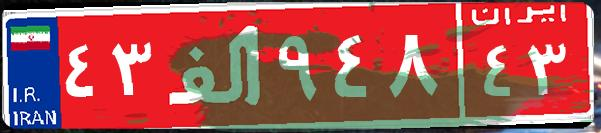3: (110, 28, 158, 105), (525, 38, 570, 115)
4: (330, 28, 385, 110), (57, 26, 110, 107), (475, 38, 525, 113)
8: (385, 28, 445, 110)
9: (273, 28, 330, 110)
الف: (158, 15, 273, 115)
